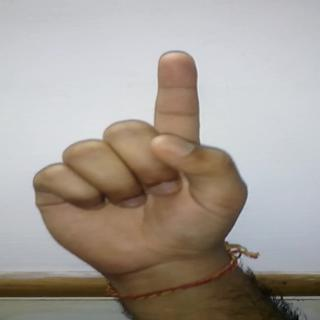I: (32, 39, 258, 272)
